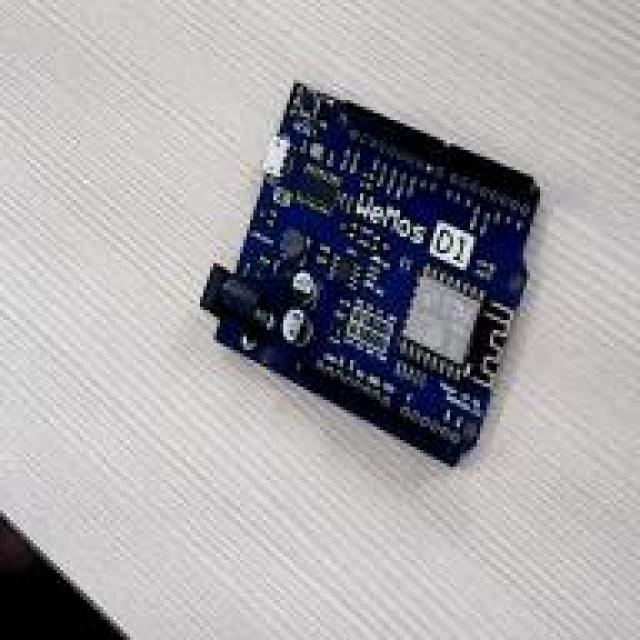Wemos: (201, 84, 538, 464)
